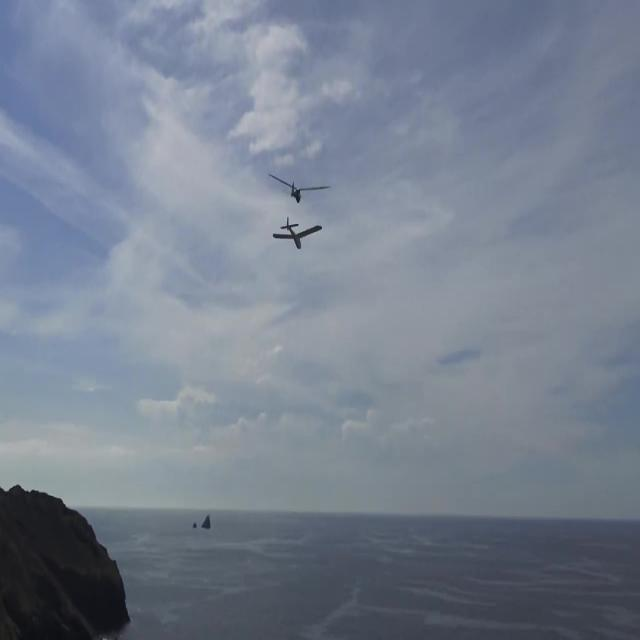iha: (272, 216, 322, 251)
